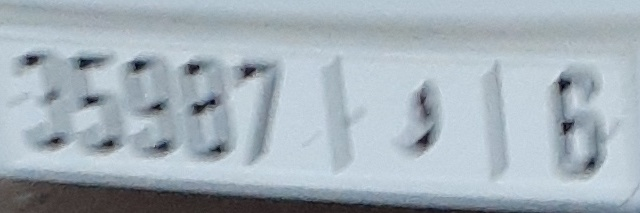3: (549, 65, 611, 186)
5: (390, 78, 453, 162)
6: (10, 46, 72, 156)
7: (121, 54, 180, 162)
8: (178, 53, 233, 170)
9: (233, 58, 286, 170)
waw: (72, 48, 123, 159)
